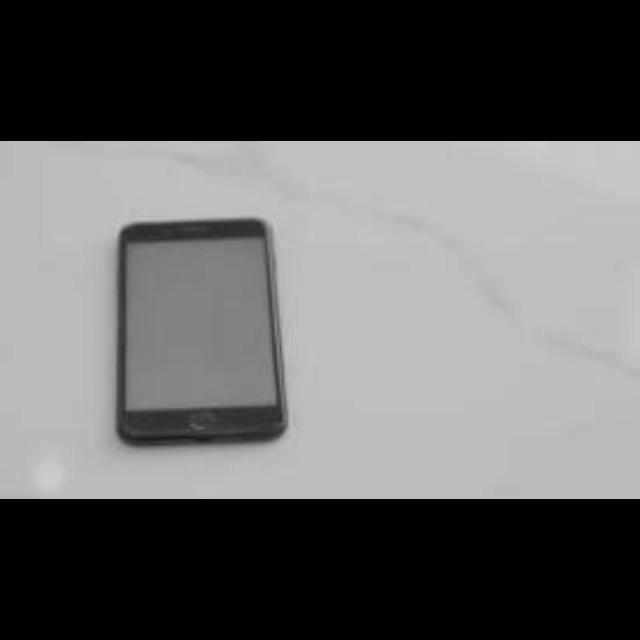fake: (116, 216, 286, 452)
